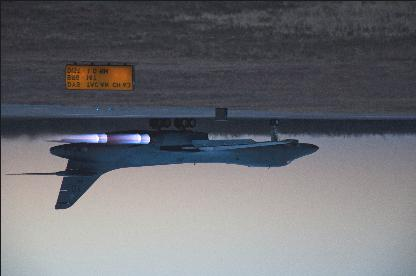AV8B: (4, 118, 318, 210)
